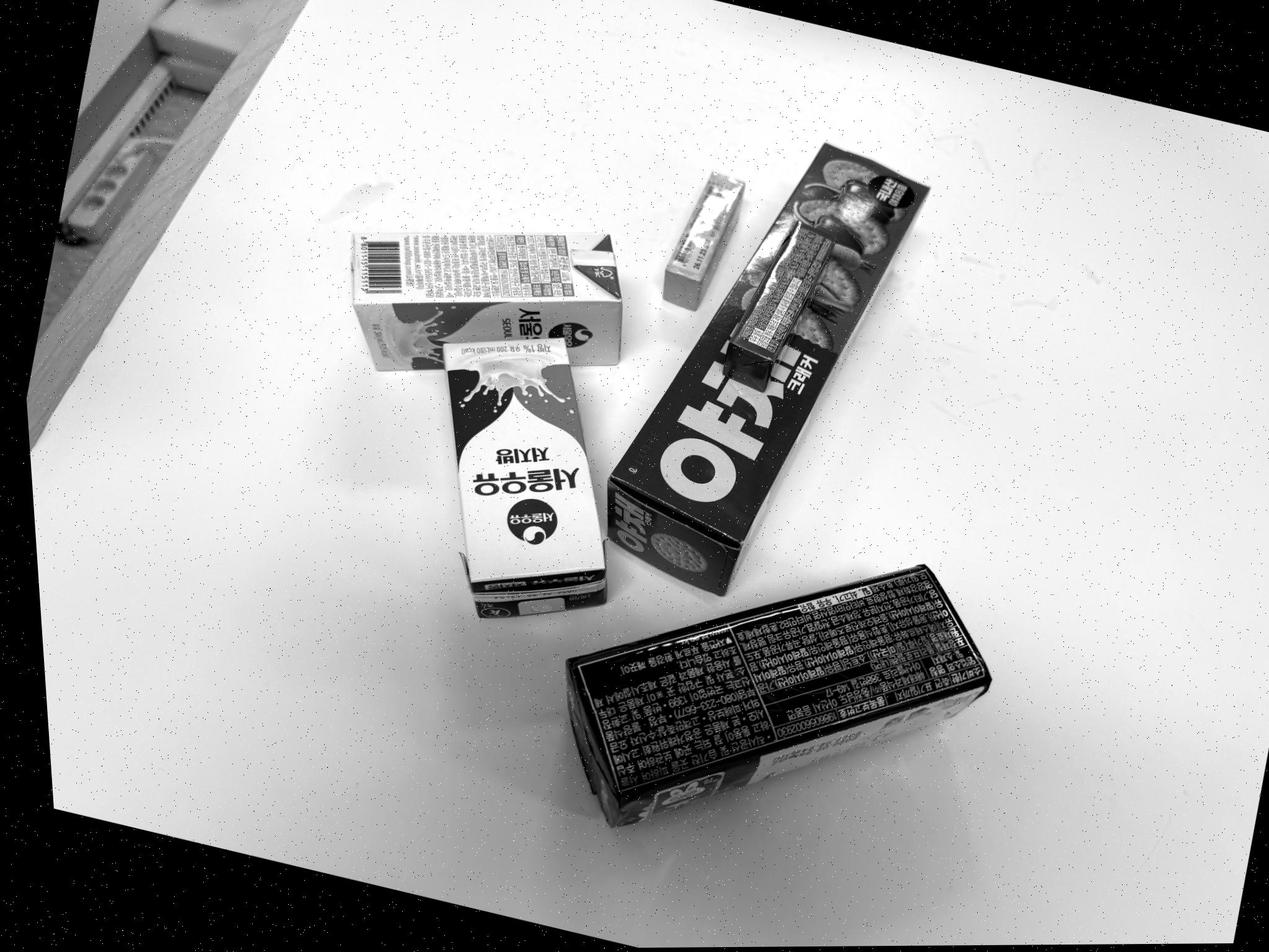cracker_ace: (566, 565, 991, 826)
cracker_vege: (607, 144, 928, 595)
gum_yellow: (662, 172, 746, 311)
milk_blue: (444, 339, 606, 618)
milk_green: (352, 232, 623, 371)
